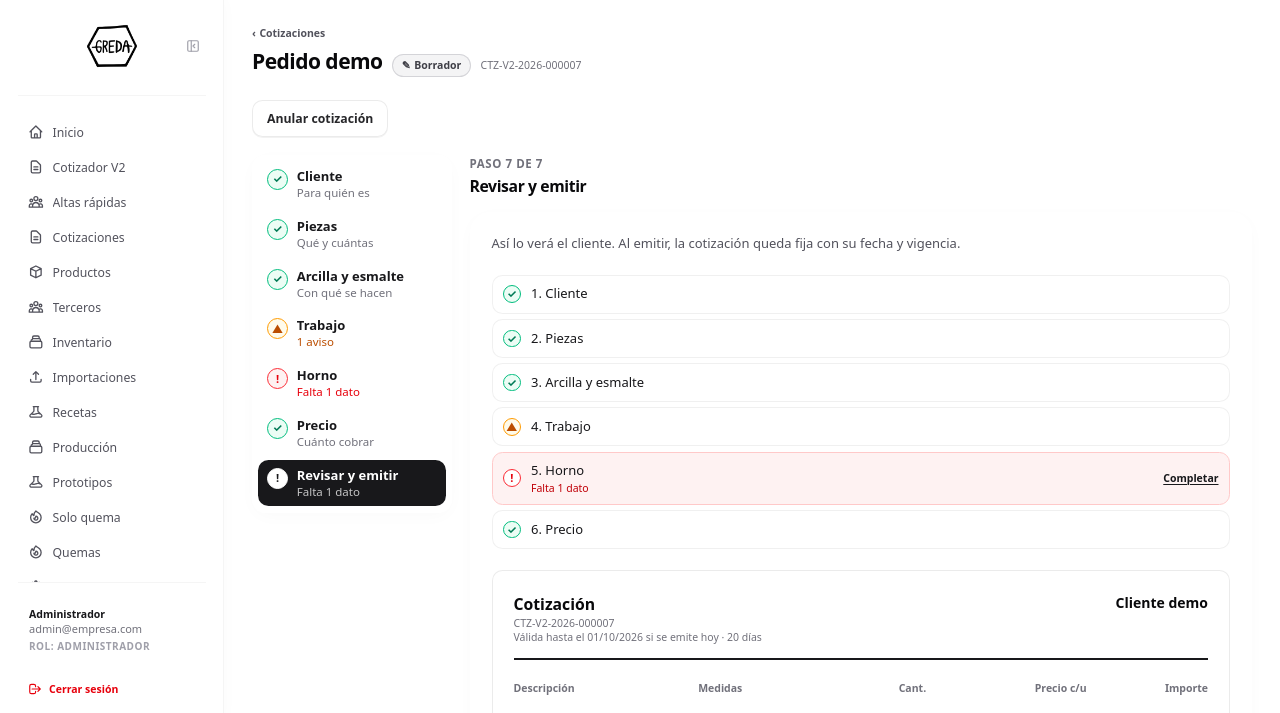
Scenario: «Revisar y emitir» del rediseño › la lista de pasos dice lo que el backend bloquea, con un atajo al paso
expect the list item "! 5. Horno Falta 1 dato Completar" is shown: met, box x1=492 y1=452 x2=1230 y2=504
Click the button "Completar": (1191, 478) x1=1163 y1=471 x2=1218 y2=485
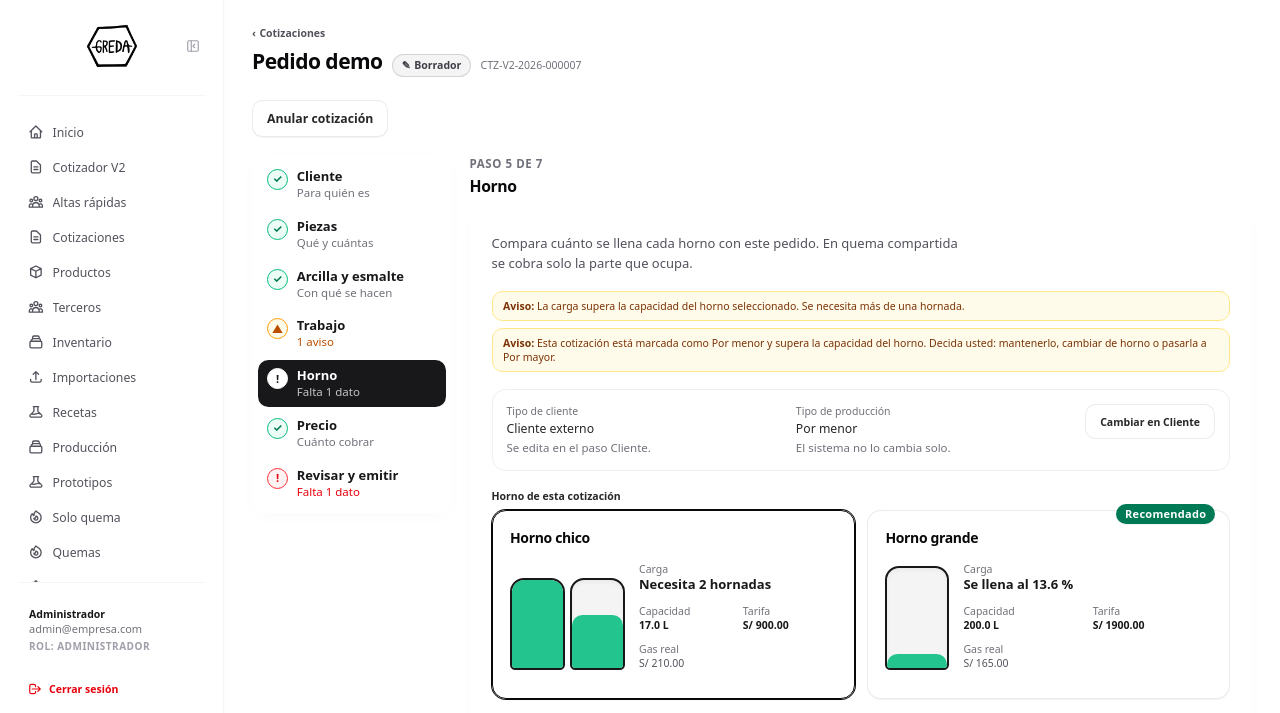
expect the heading "Horno" is shown: met, box x1=470 y1=174 x2=517 y2=196
